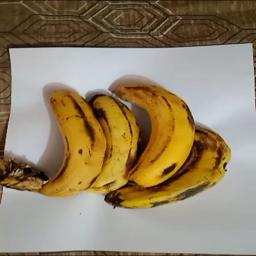Banana Semifresh: (36, 89, 105, 201)
